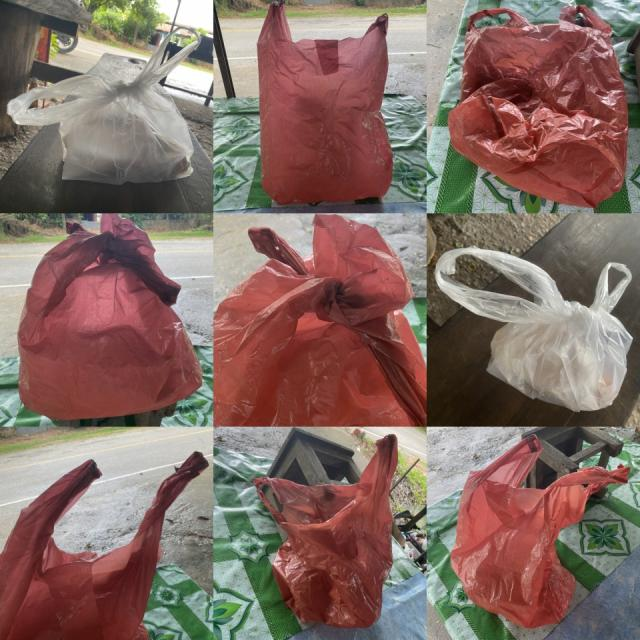Single-layer Plastic: (215, 215, 426, 426), (0, 451, 209, 640), (19, 214, 201, 419), (448, 5, 628, 208), (451, 435, 630, 627), (435, 246, 632, 411), (6, 26, 201, 184), (254, 435, 398, 628), (258, 2, 392, 205)
